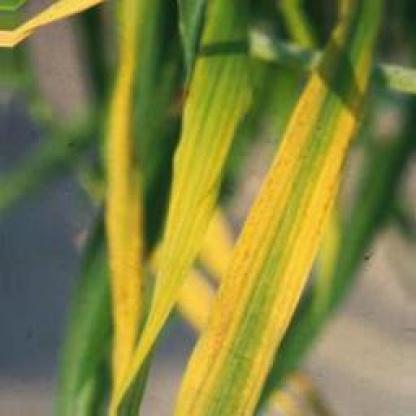Tungro: (174, 9, 393, 415), (120, 26, 278, 411), (100, 3, 152, 413), (3, 3, 104, 57)
